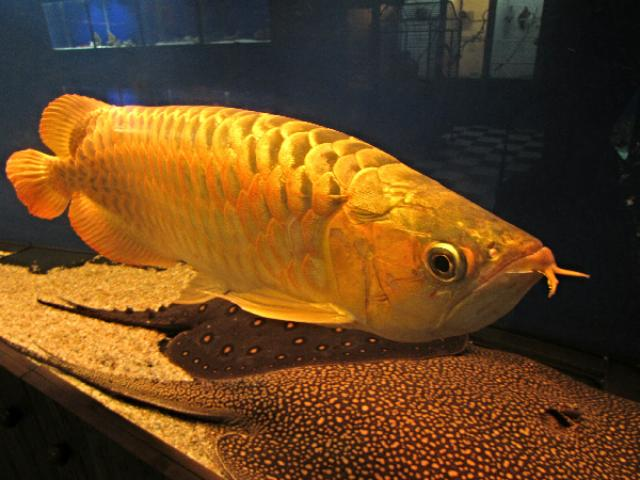Mulut: (410, 214, 598, 346)
Sirip Anal: (61, 183, 187, 275)
Sirip Dada: (193, 276, 373, 336)
Sirip Ekor: (4, 142, 86, 232)
Sirip Perut: (166, 262, 232, 314)
Sirip Punggung: (30, 82, 146, 162)
